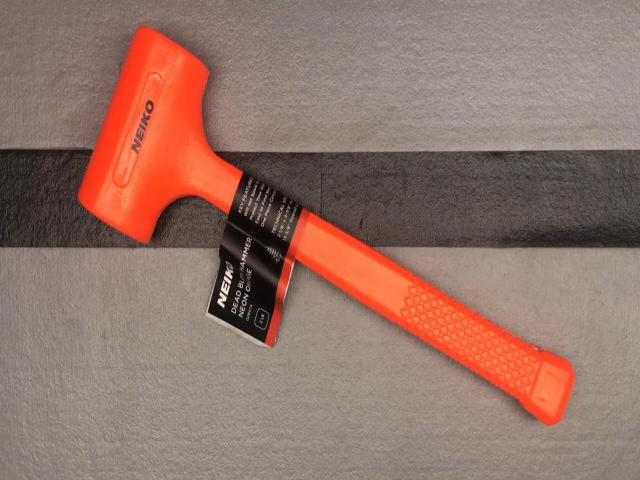hammer: (76, 27, 574, 426)
